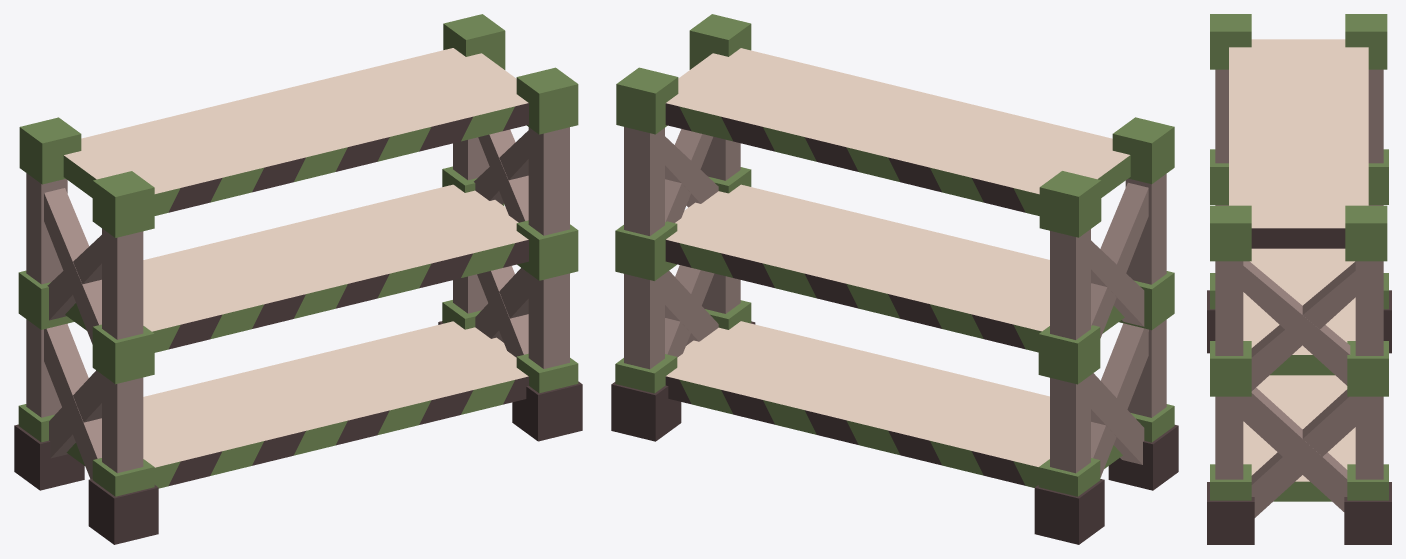
File: Green_Shelf.fbx
3 views of the same model, side by side, from view 1: azimuth 30°, elevation 25°; view 2: azimuth 150°, elevation 25°; view 3: azimuth 270°, elevation 25° (orthographic). The views are drawn at different scales.
Visible parts, largest first — view 1: Green_Shelf; view 2: Green_Shelf; view 3: Green_Shelf.
Part boxes in pixels (box(x1,y1,x2,y2)): Green_Shelf: box(14, 14, 582, 544); Green_Shelf: box(611, 14, 1178, 544); Green_Shelf: box(1207, 14, 1391, 544).
Bounding box in the file's own units: 179 × 127 × 66.16.
